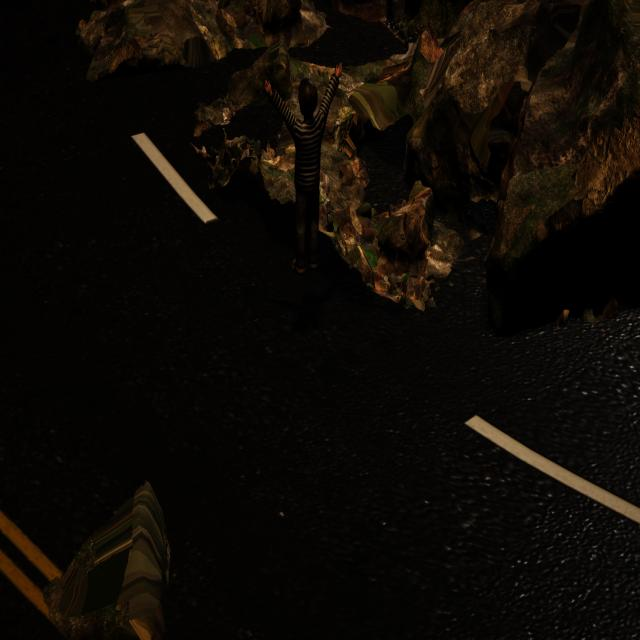Human: (260, 60, 346, 287)
